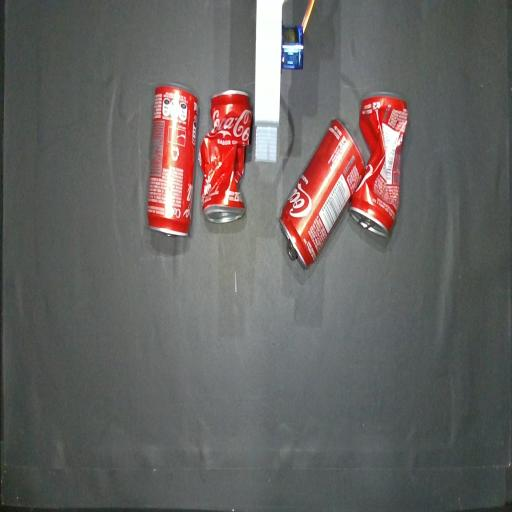lata: (279, 119, 364, 268), (147, 86, 198, 235)
lata_defectuoso: (349, 92, 408, 237), (199, 90, 252, 223)
